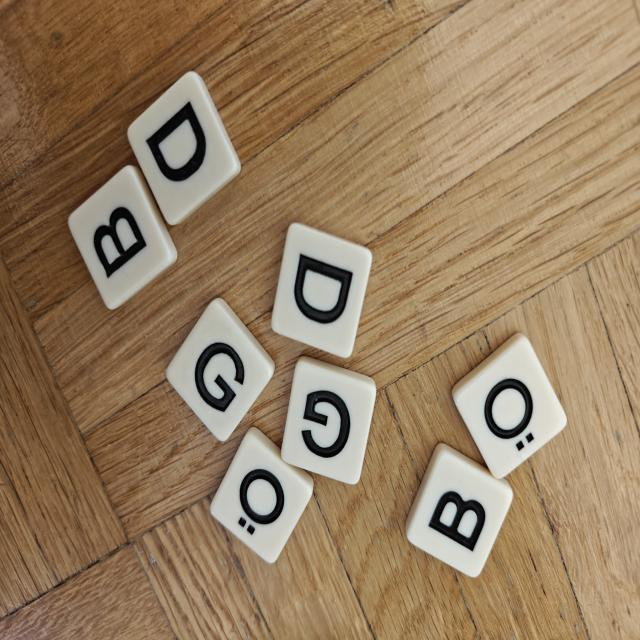b: (69, 166, 177, 309), (405, 443, 513, 577)
d: (128, 71, 241, 225), (272, 223, 372, 357)
g: (167, 298, 274, 441), (281, 356, 376, 484)
o_dot: (452, 334, 566, 478), (210, 427, 313, 563)
